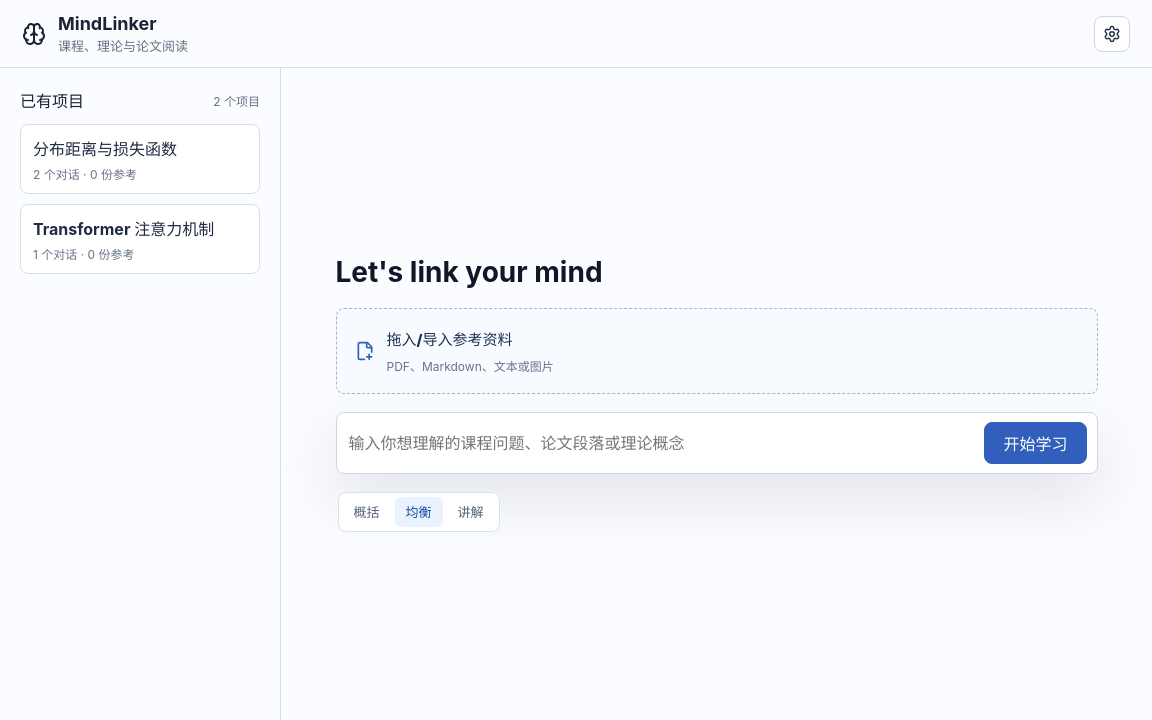
Test: MindLinker shell › keeps internal prompt and context blocks out of the reader surface
The width and height of the screenshot is (1152, 720).
Type "结合课件讲解 AEP" into the field named "学习问题" at x=660, y=443, box [346,423,974,463]
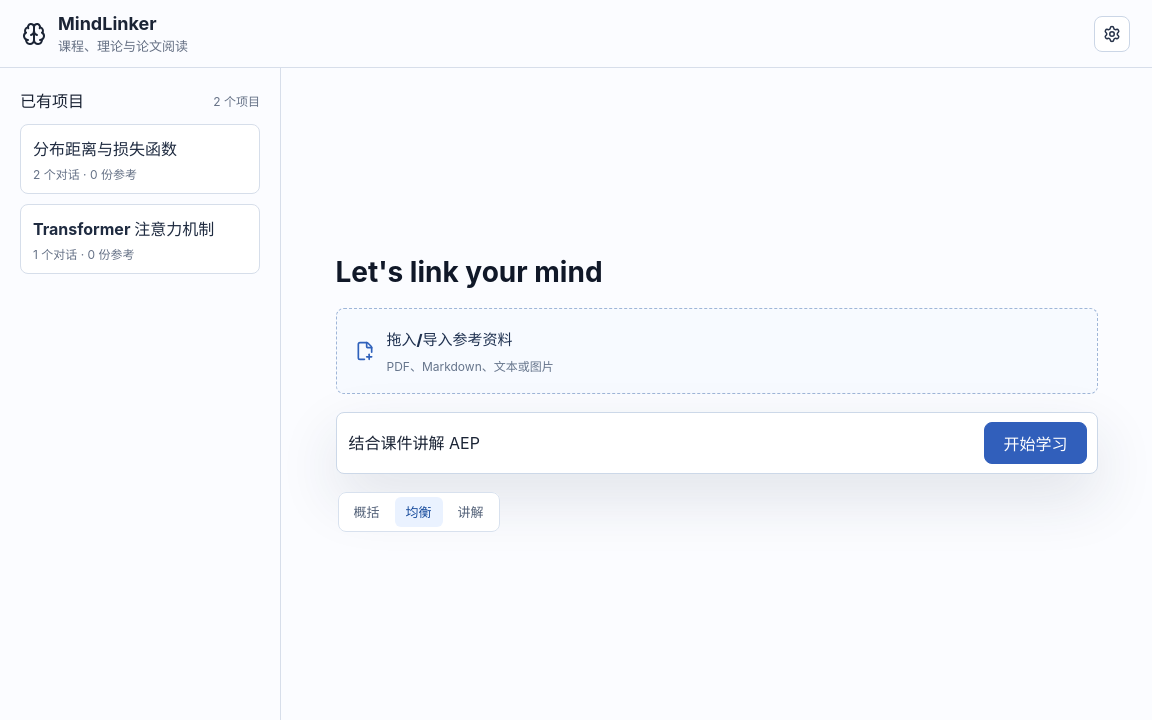
Click the button "开始学习" at x=1036, y=443, box [984,422,1086,464]
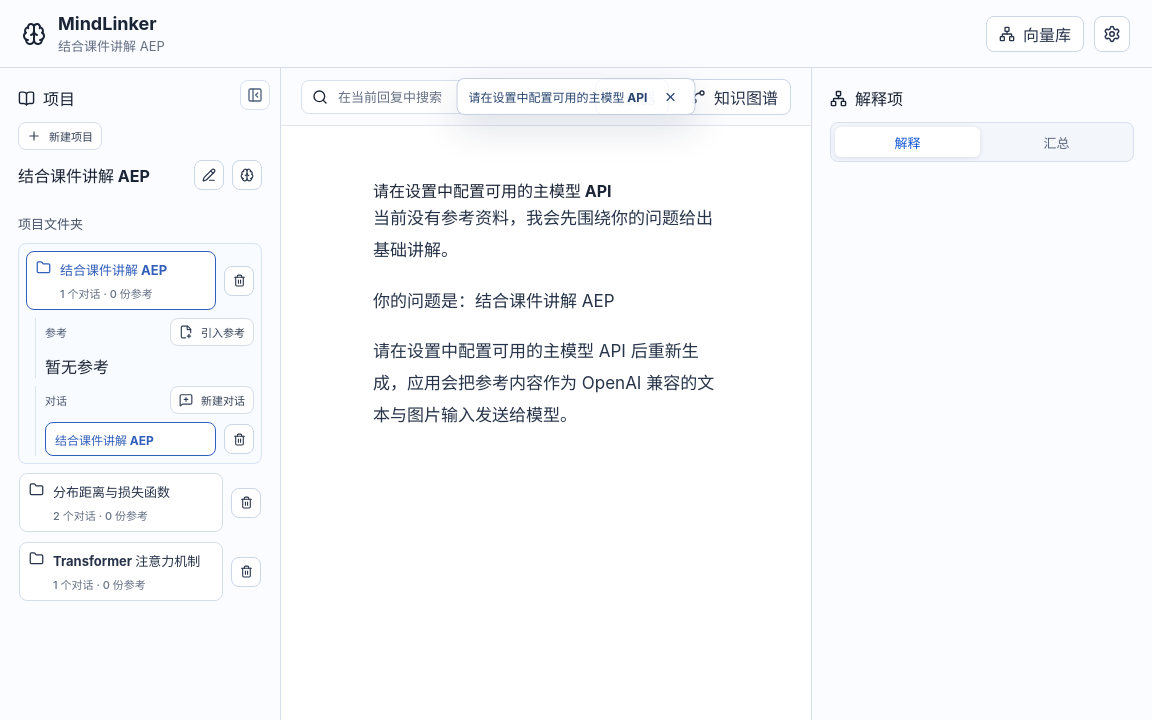
Now the element named "回答正文" is shown, box [281,126,811,719]
